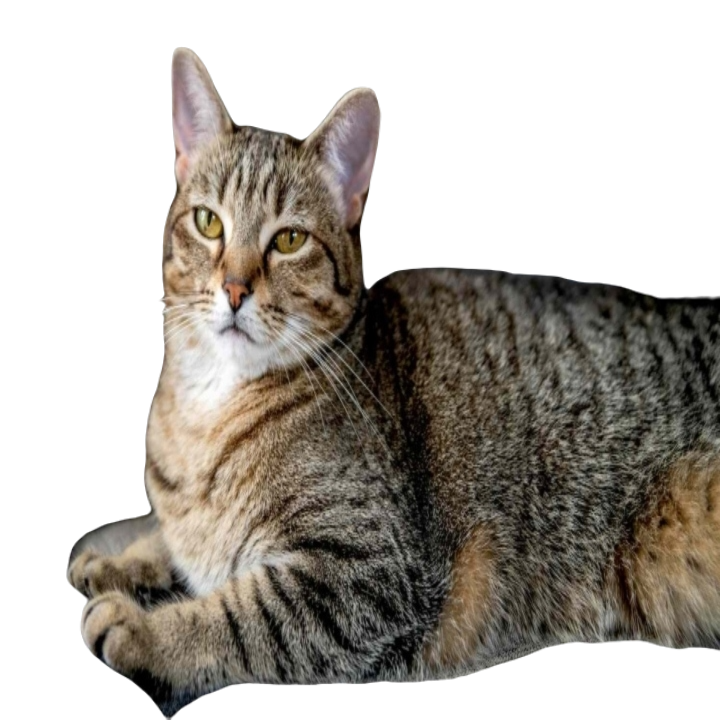Cat: (63, 49, 719, 711)
